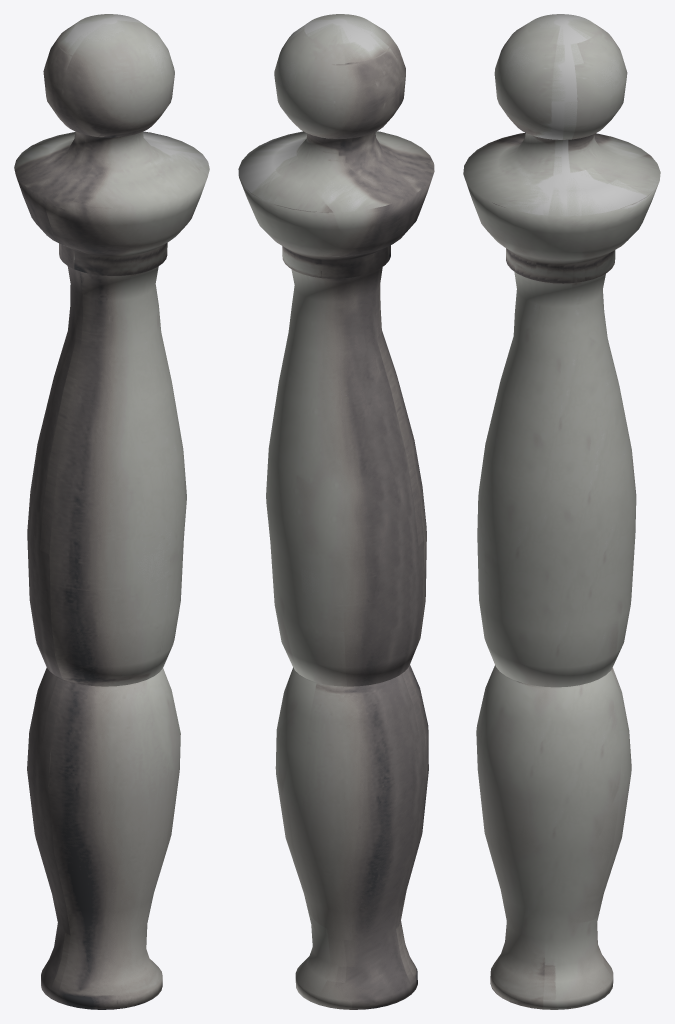
File: scacco3.obj
The picture shows the model from 3 angles, left to right: view 1: azimuth 30°, elevation 25°; view 2: azimuth 150°, elevation 25°; view 3: azimuth 270°, elevation 25°; orthographic projection.
Parts seen in each view (by area): view 1: scacco_alto_Cerchio.001; view 2: scacco_alto_Cerchio.001; view 3: scacco_alto_Cerchio.001.
Part boxes in pixels (bbox=[...]): scacco_alto_Cerchio.001: bbox=[14, 14, 209, 1009]; scacco_alto_Cerchio.001: bbox=[238, 14, 434, 1009]; scacco_alto_Cerchio.001: bbox=[463, 14, 660, 1009].
Bounding box in the file's own units: 0.7078 × 3.83 × 0.7078.
